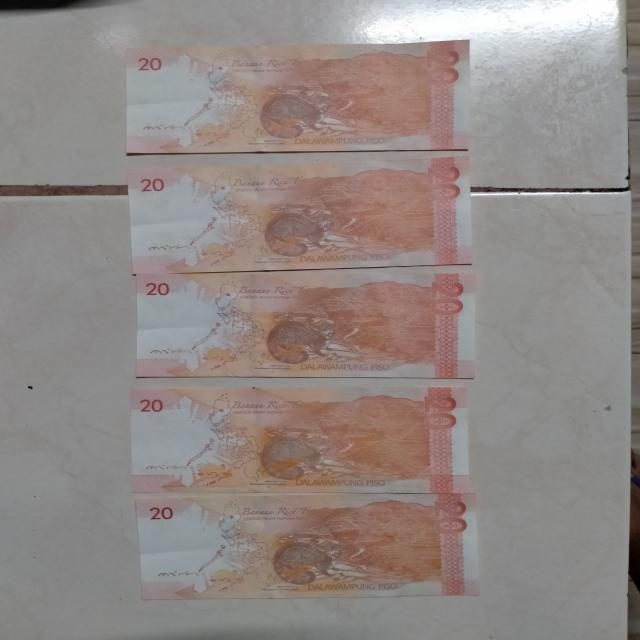20_civet: (260, 202, 343, 259)
20_civet_watermark: (193, 335, 261, 379), (188, 452, 240, 488)
